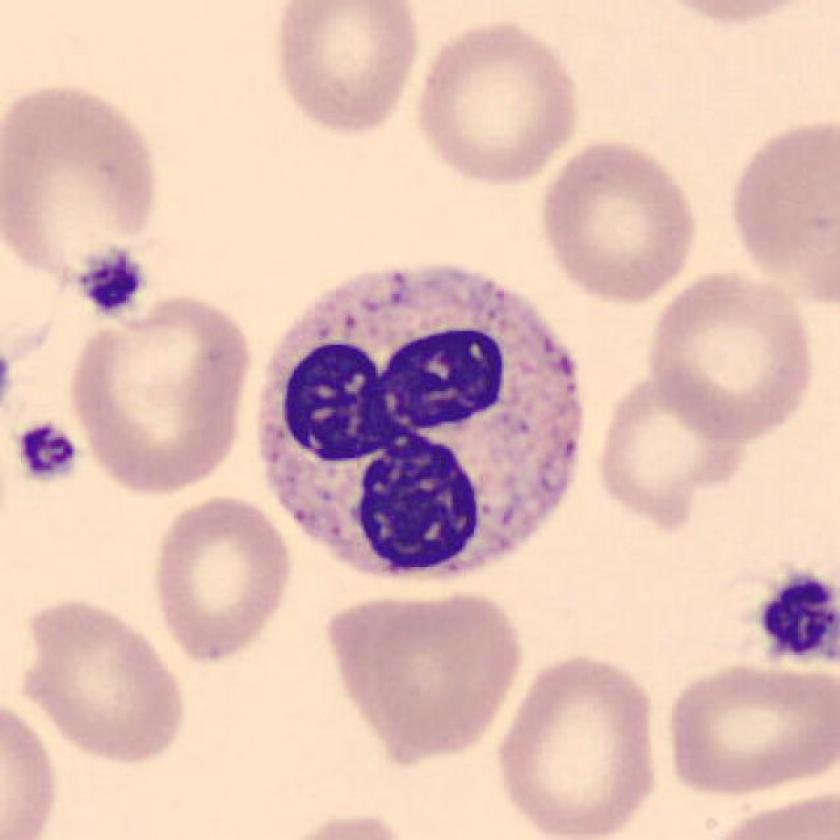neutrophil: (258, 266, 581, 584)
